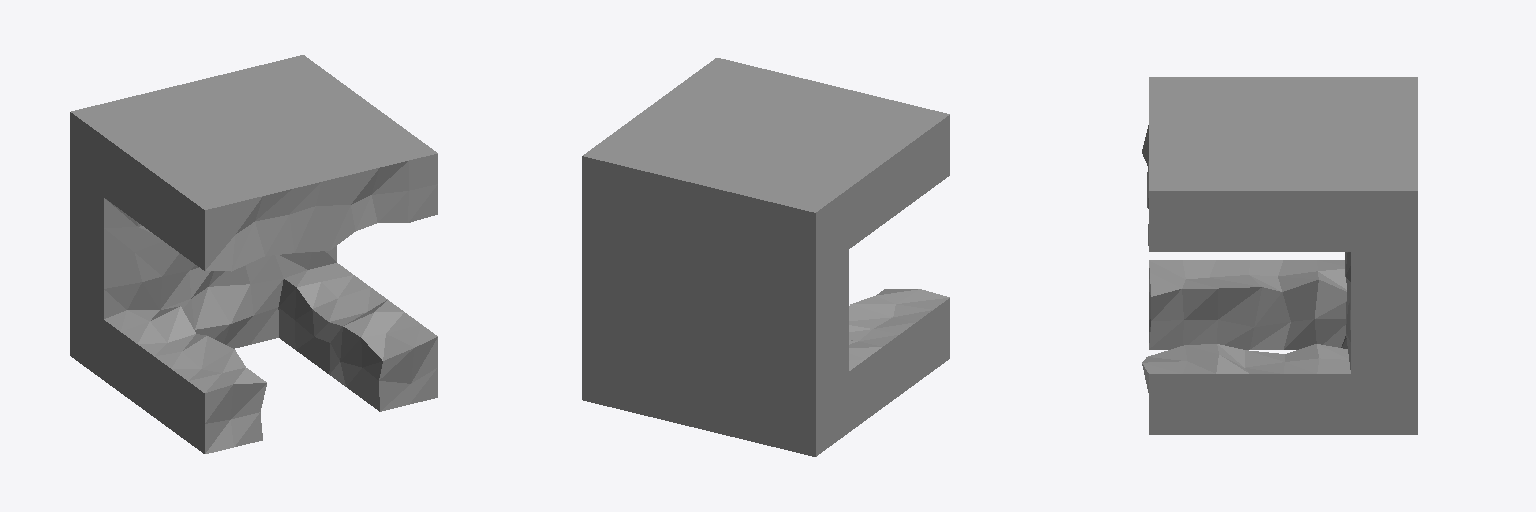
The model's file is tjunction.obj.
3 views of the same model, side by side, from view 1: azimuth 30°, elevation 25°; view 2: azimuth 150°, elevation 25°; view 3: azimuth 270°, elevation 25° (orthographic).
Visible parts, largest first — view 1: Cube; view 2: Cube; view 3: Cube.
Part boxes in pixels (left/top/right/bottom): Cube: left=70, top=55, right=437, bottom=453; Cube: left=582, top=58, right=949, bottom=456; Cube: left=1142, top=77, right=1417, bottom=434.
Size of the model in its own units: 2 by 2 by 2.05.